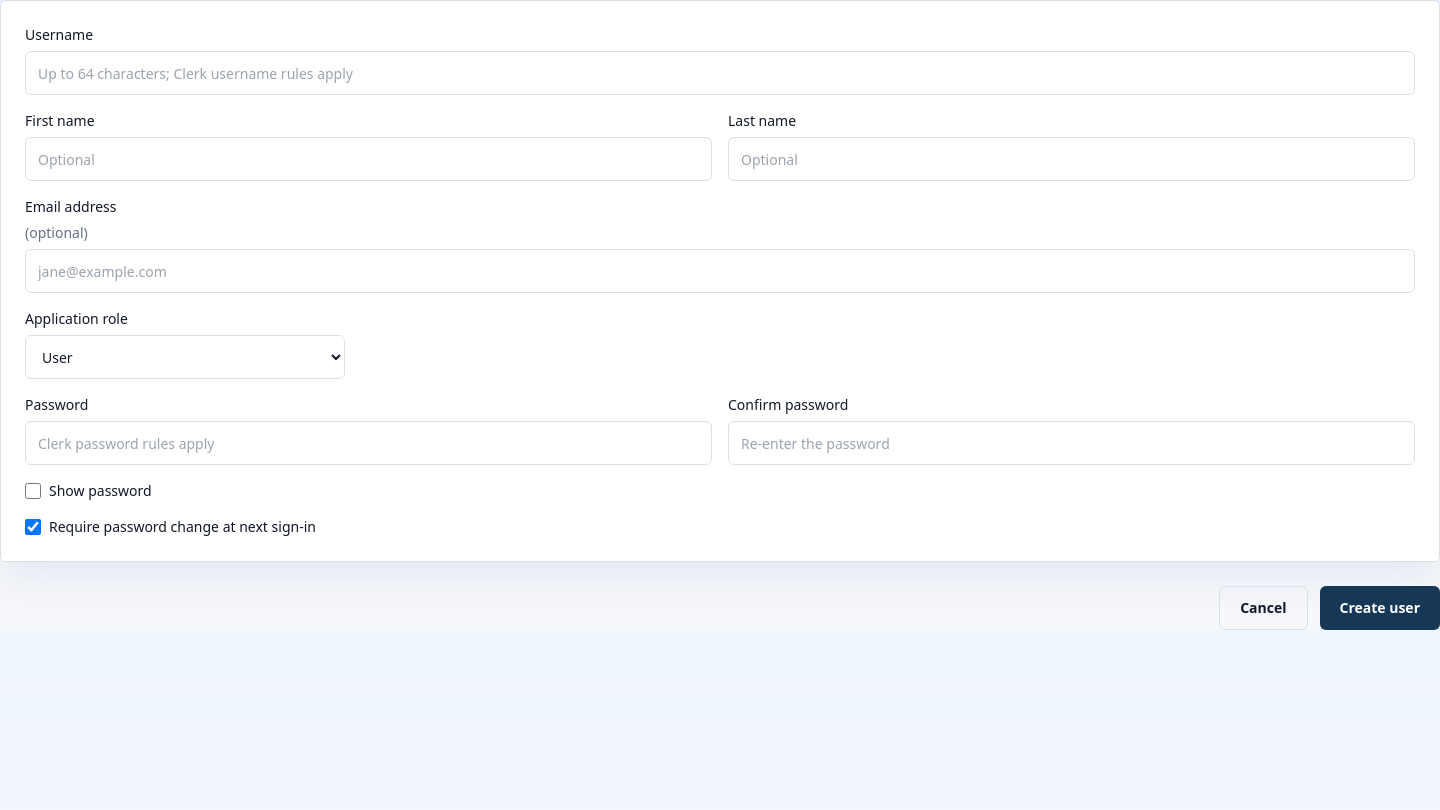
it: admin create-user page › does not submit mismatched passwords
Type "new_user" into the field labelled "Username" at (720, 73), box [25,51,1415,95]
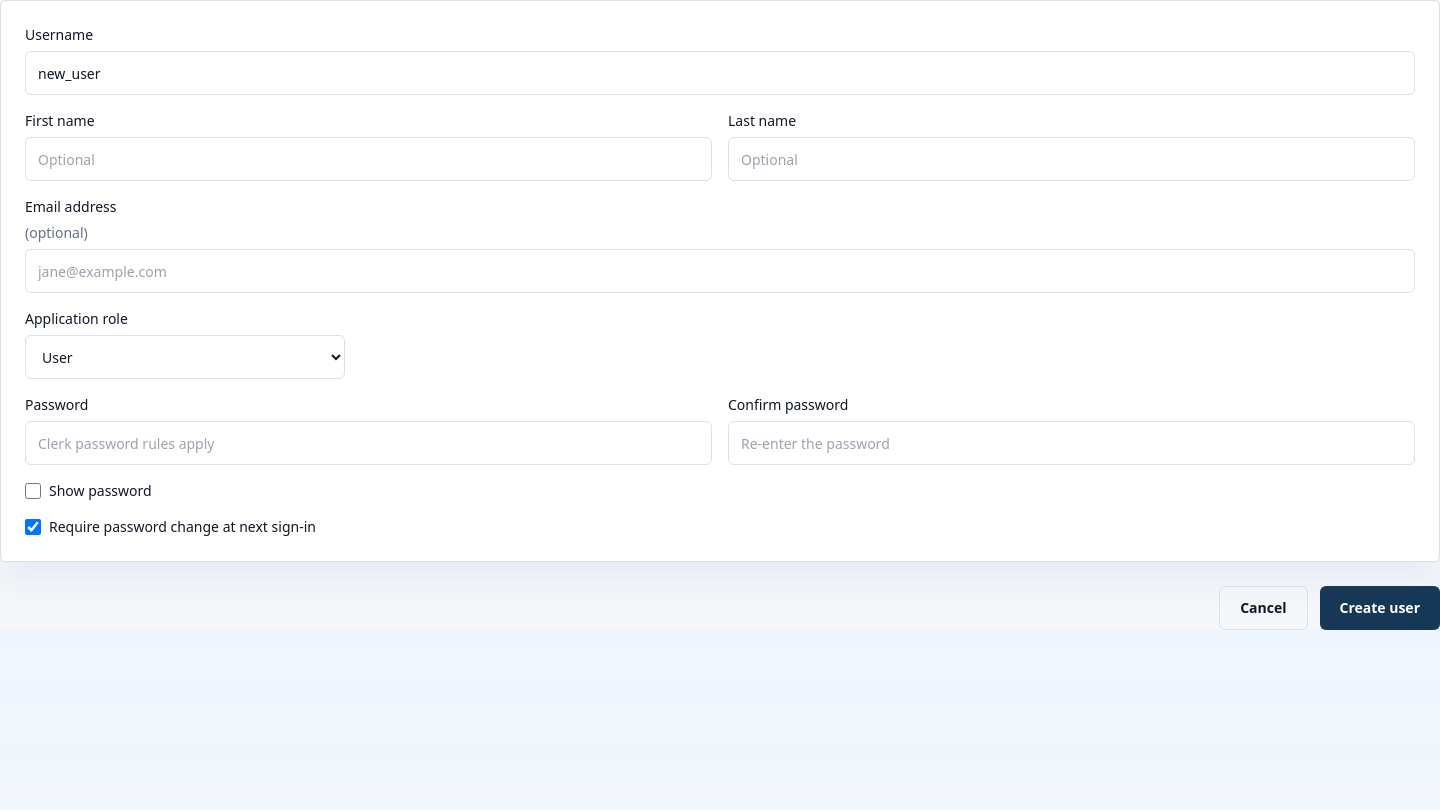
Type "VeryStrong!123" into the password field labelled "Password" at (368, 443), box [25,421,712,465]
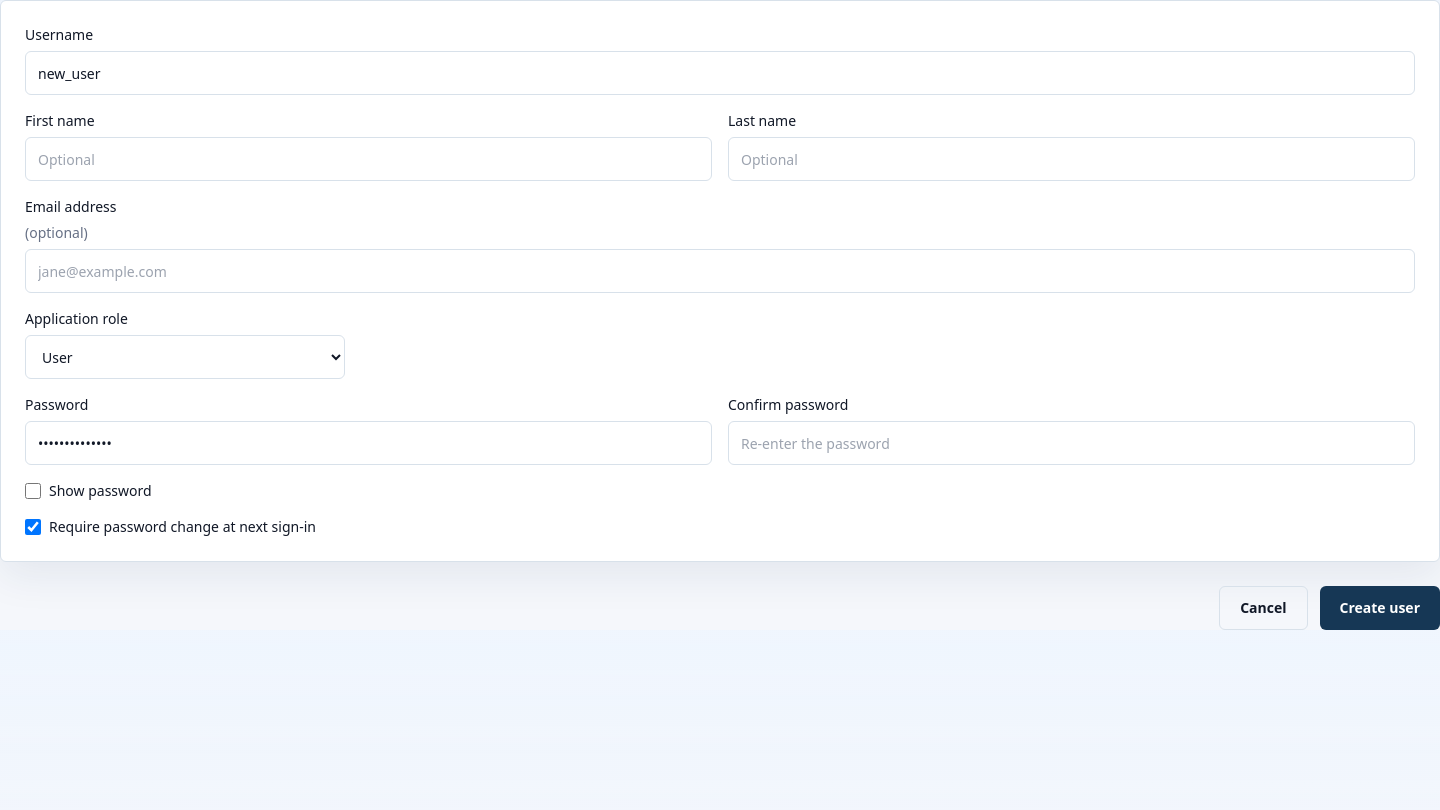
Type "Different!123" into the password field labelled "Confirm password" at (1072, 443), box [728,421,1415,465]
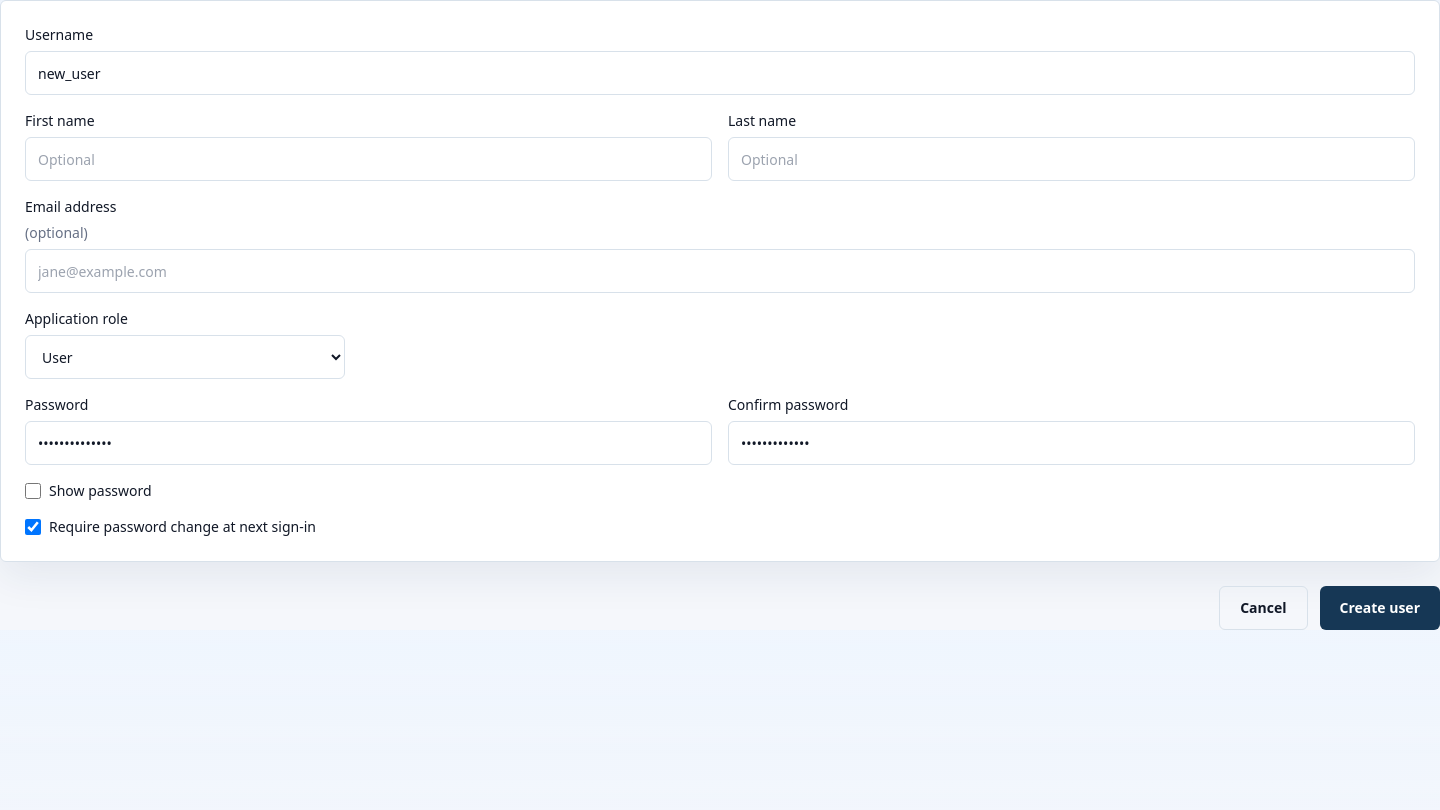
Click the button "Create user" at (1380, 608), box [1320,586,1439,630]
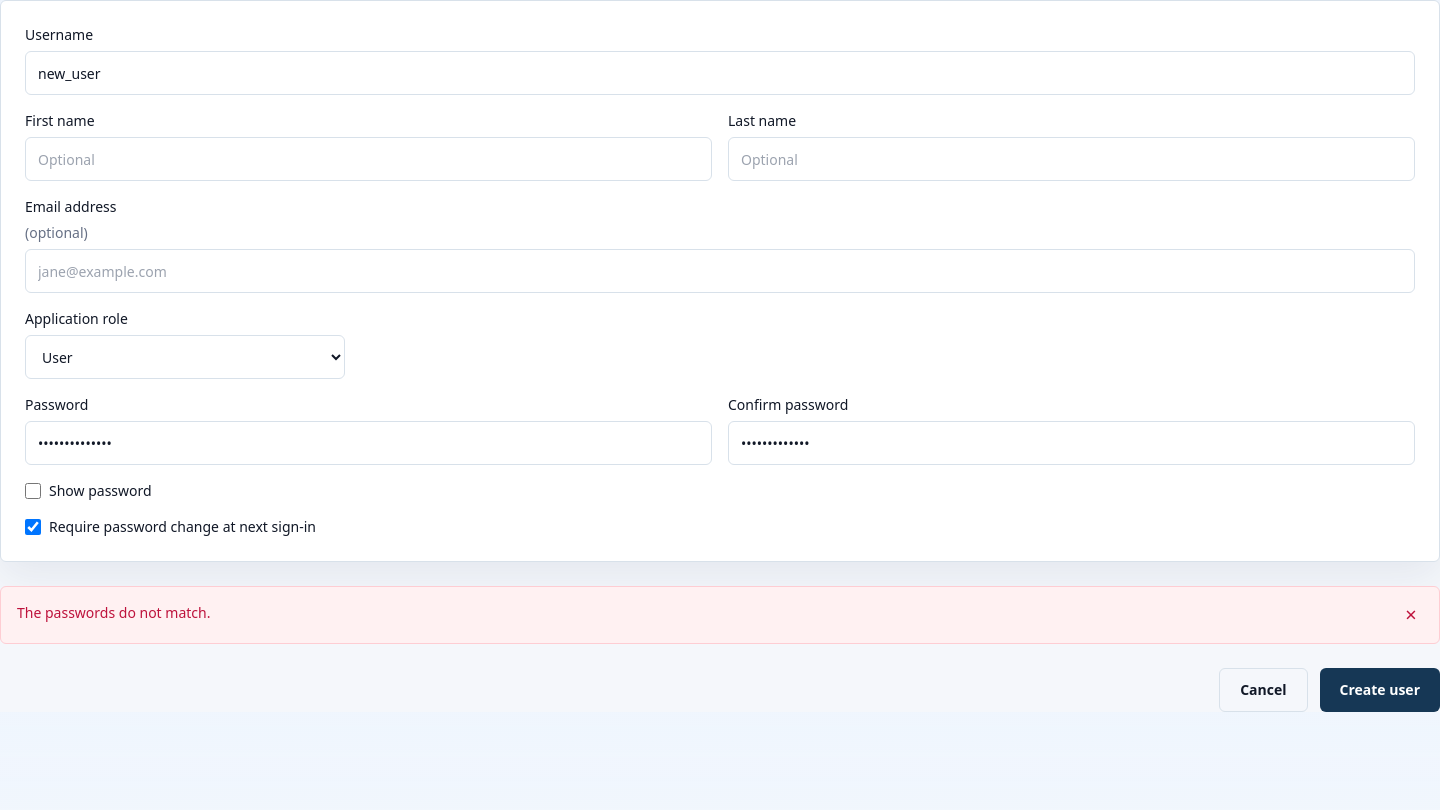
Check: the message shows "The passwords do not match.", box [17,603,210,622]
Click the button named "Dismiss message" at (1411, 615), box [1395,599,1427,631]
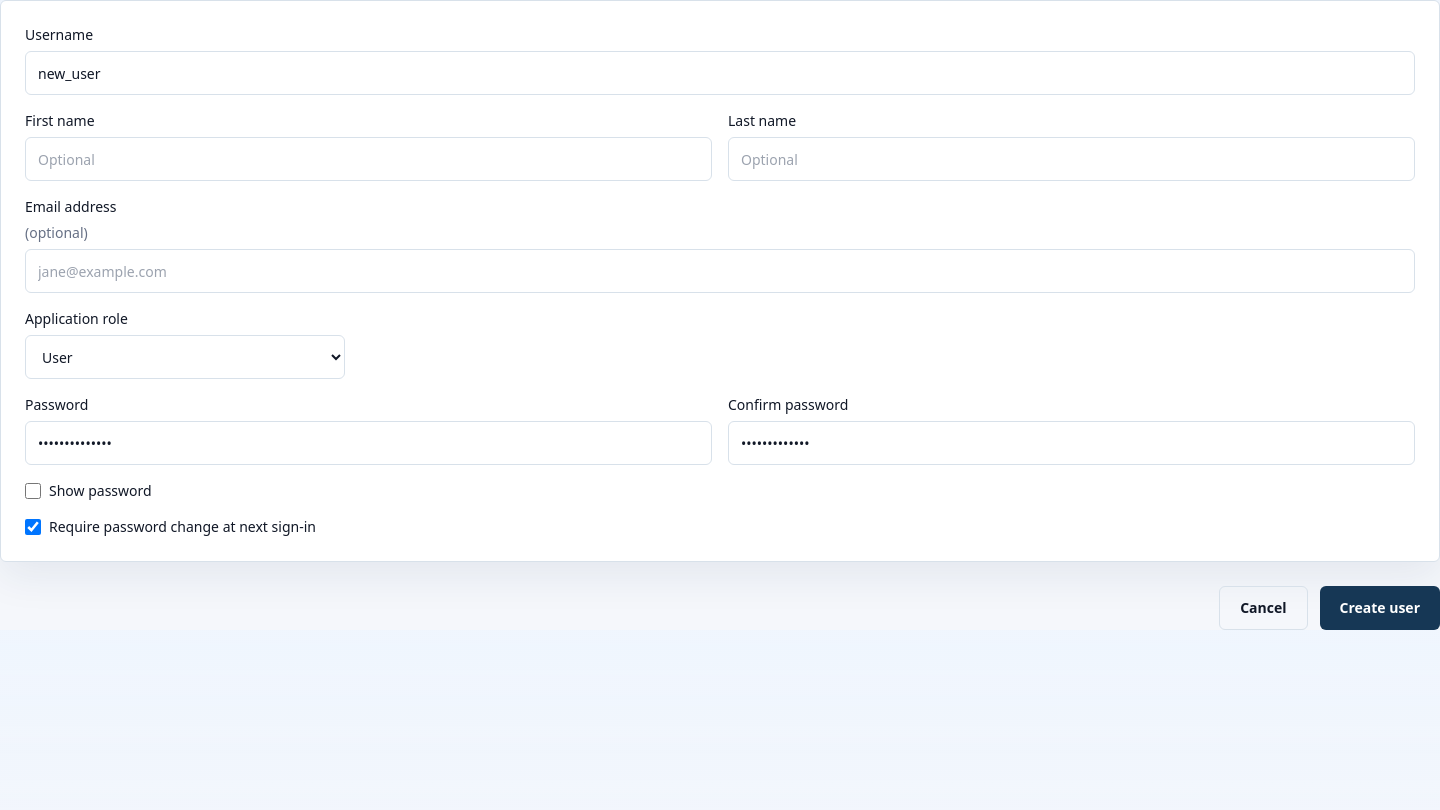
Check: the message "The passwords do not match. ×" is gone
